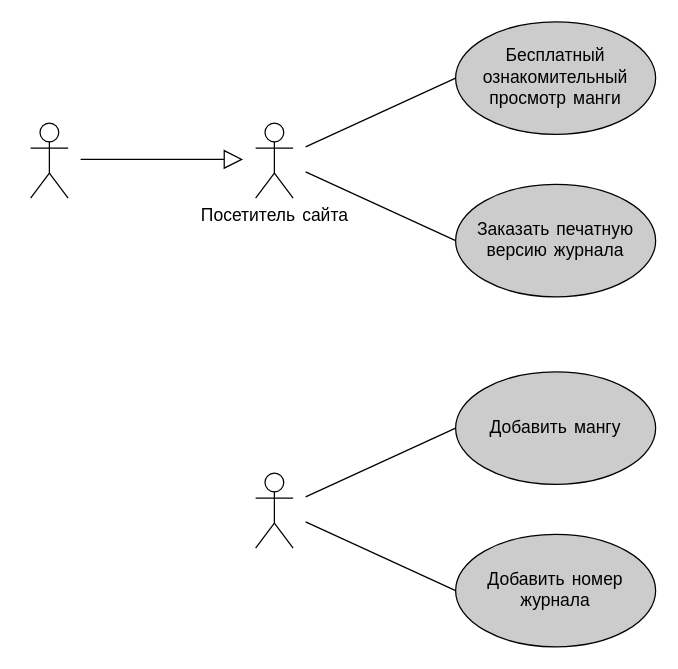
This 678x669 diagram has some shape labels left out. Here are the shapes that lost their labels. From the top down, the centre of each, then its label:
pixel 48 160: Клиент
pixel 273 510: Контент-менеджер
